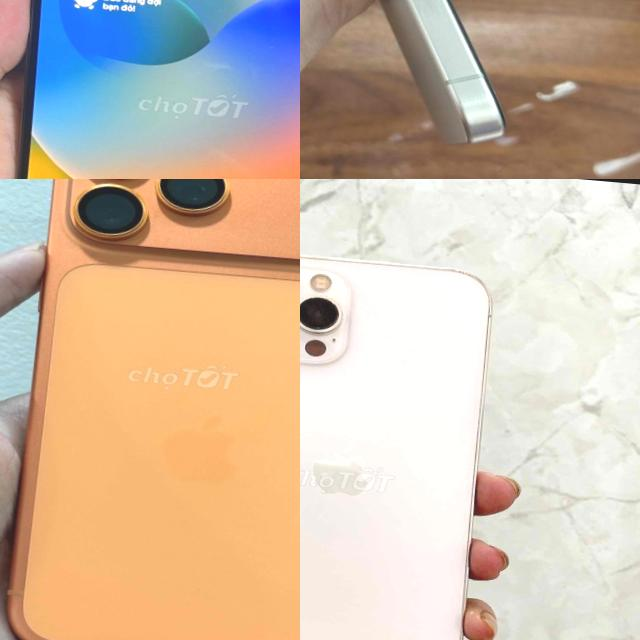gen_12_13: (300, 243, 503, 640)
gen_15: (0, 0, 300, 179), (300, 0, 569, 148)
gen_17: (0, 179, 300, 640)
